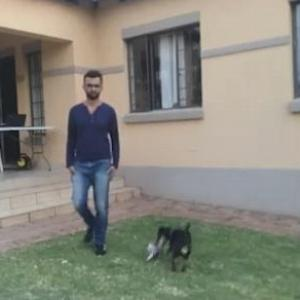follow: (63, 69, 122, 254)
